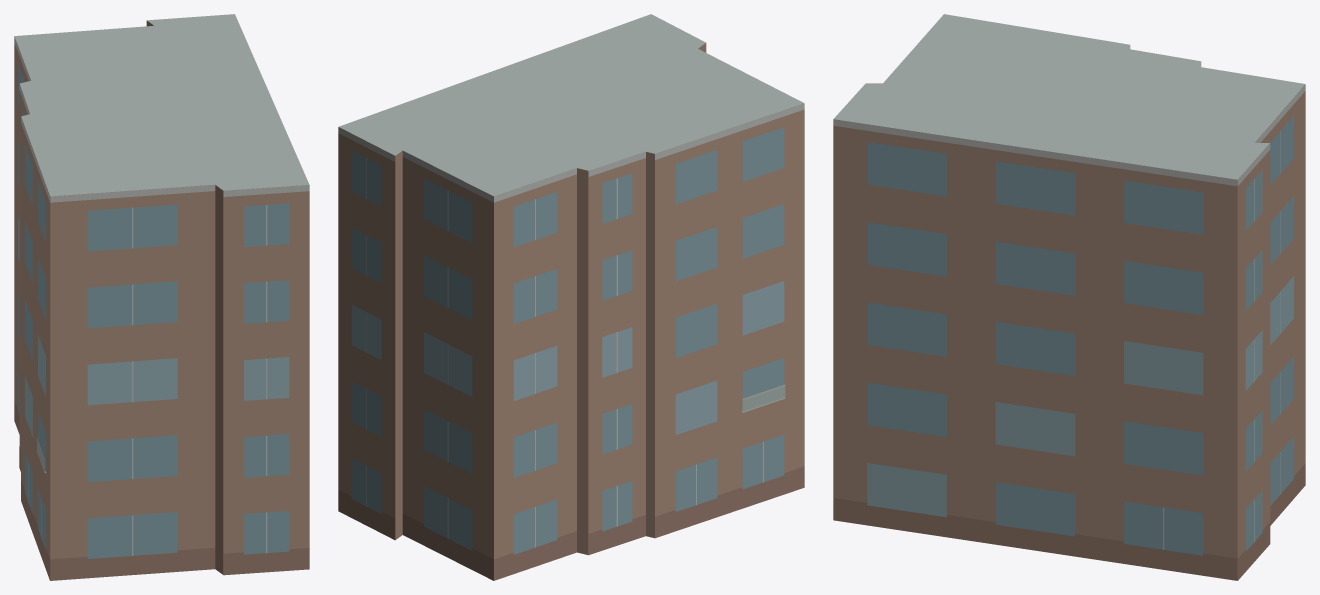
The model's file is survey-upis-32479293.glb.
3 renders of one model, left to right at view 1: azimuth 30°, elevation 25°; view 2: azimuth 150°, elevation 25°; view 3: azimuth 270°, elevation 25°, orthographic. The views are drawn at different scales.
Parts seen in each view (by area): view 1: survey-upis-32479293.tmp; view 2: survey-upis-32479293.tmp; view 3: survey-upis-32479293.tmp.
Part boxes in pixels (<box>): survey-upis-32479293.tmp: <box>14,14,309,580</box>; survey-upis-32479293.tmp: <box>338,14,804,580</box>; survey-upis-32479293.tmp: <box>833,14,1305,580</box>.
Bounding box in the file's own units: 13.21 × 14.9 × 15.91.
